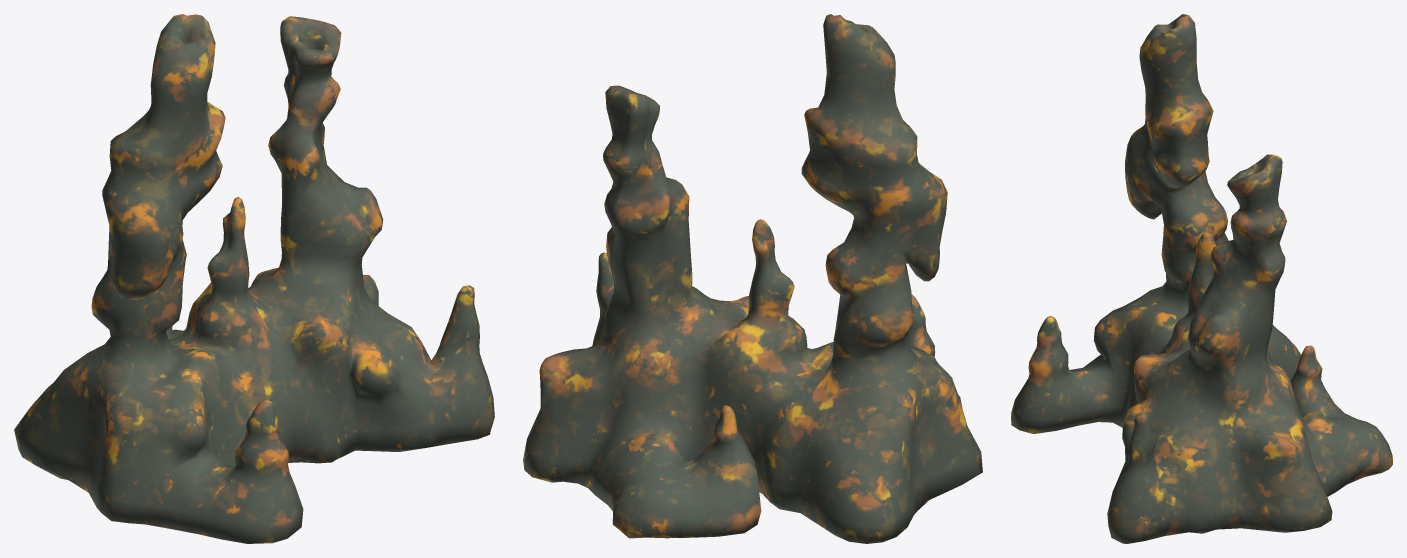
File: thermalVent00.fbx
The picture shows the model from 3 angles, left to right: view 1: azimuth 30°, elevation 25°; view 2: azimuth 150°, elevation 25°; view 3: azimuth 270°, elevation 25°; orthographic projection. The views are drawn at different scales.
Visible parts, largest first — view 1: thermalVent_final; view 2: thermalVent_final; view 3: thermalVent_final.
Boxes of the visible parts, x1,y1,x2,y2 form: thermalVent_final: (14,14,494,543); thermalVent_final: (523,14,982,543); thermalVent_final: (1011,14,1392,543).
Size of the model in its own units: 694 by 797 by 665.
1 material, 1 textured.
